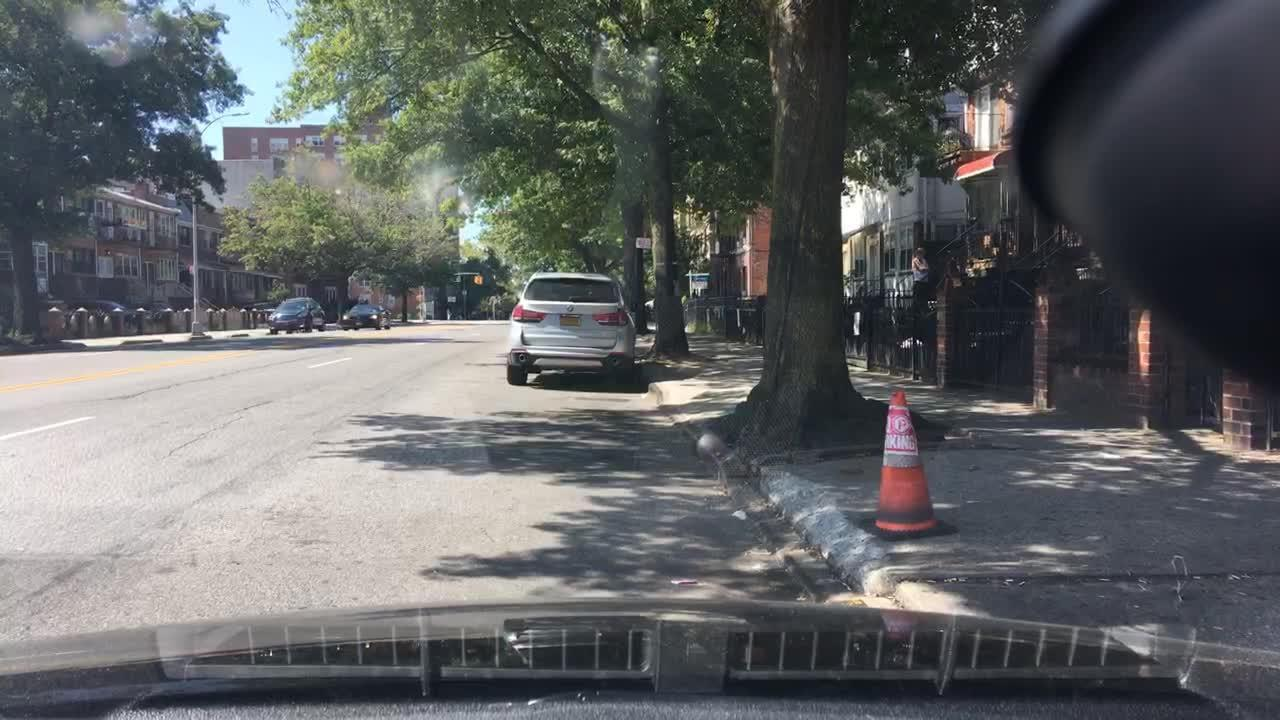bmw: (566, 304, 577, 315)
